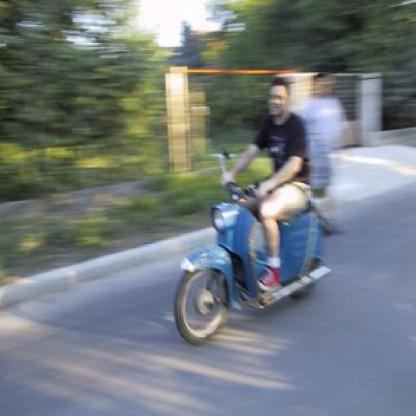motorbike: (175, 181, 331, 348)
person: (222, 77, 314, 294)
